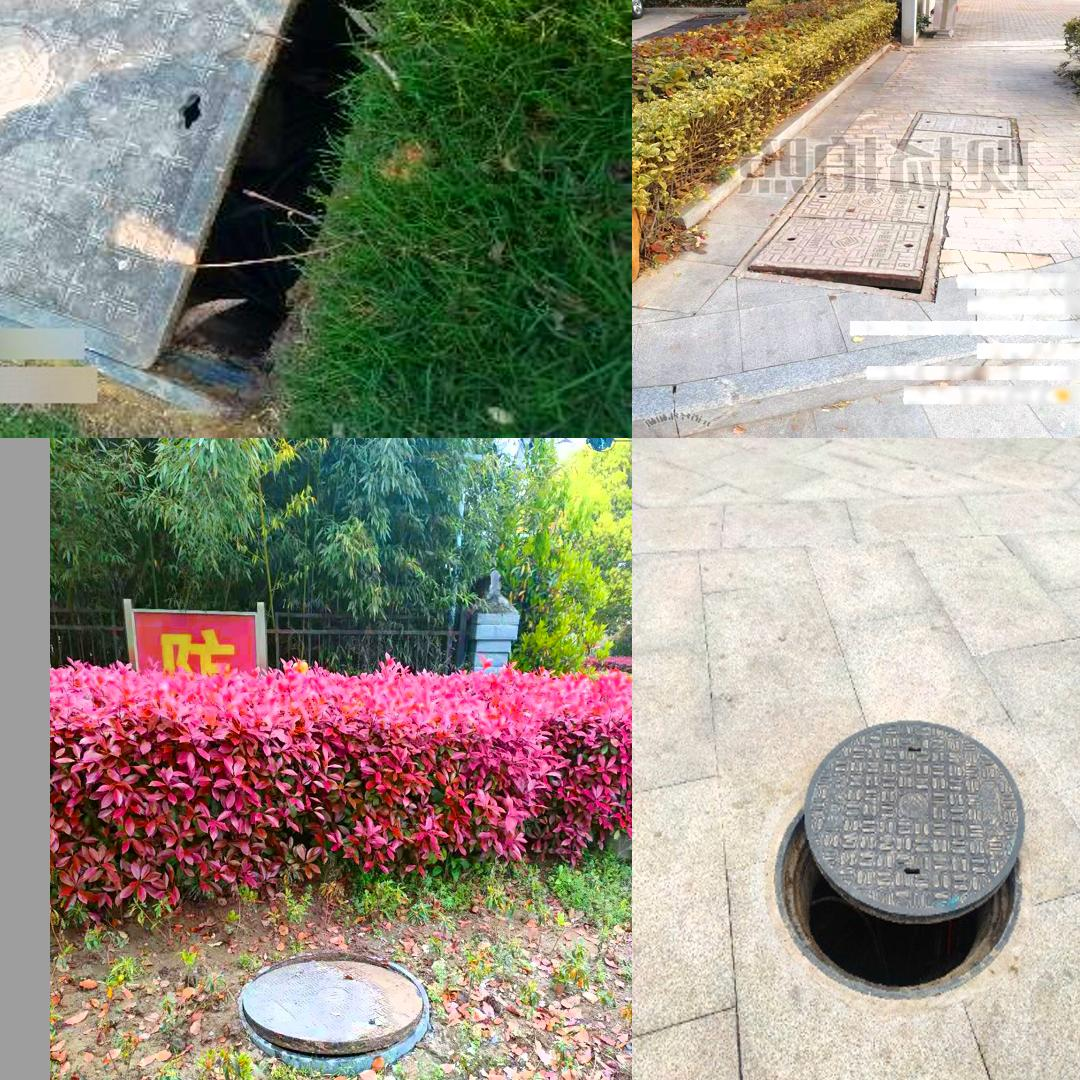good: (893, 110, 1022, 167)
uncovered: (0, 0, 409, 416), (773, 718, 1026, 1001), (729, 174, 951, 302), (237, 932, 435, 1057)
